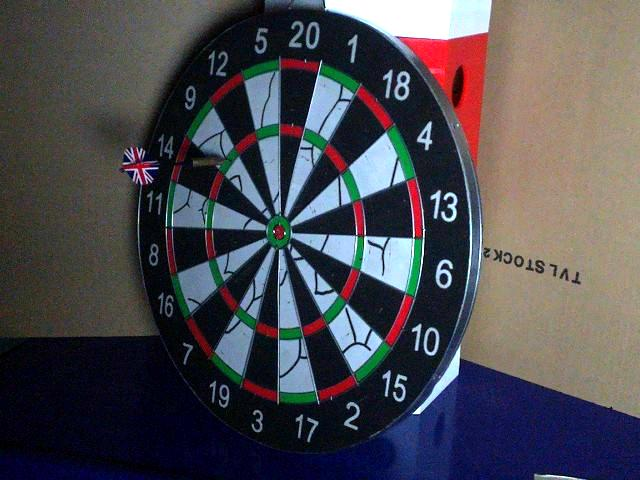triple_9: (222, 155, 236, 169)
